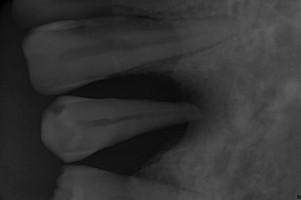Dental Caries: (153, 71, 222, 147)
